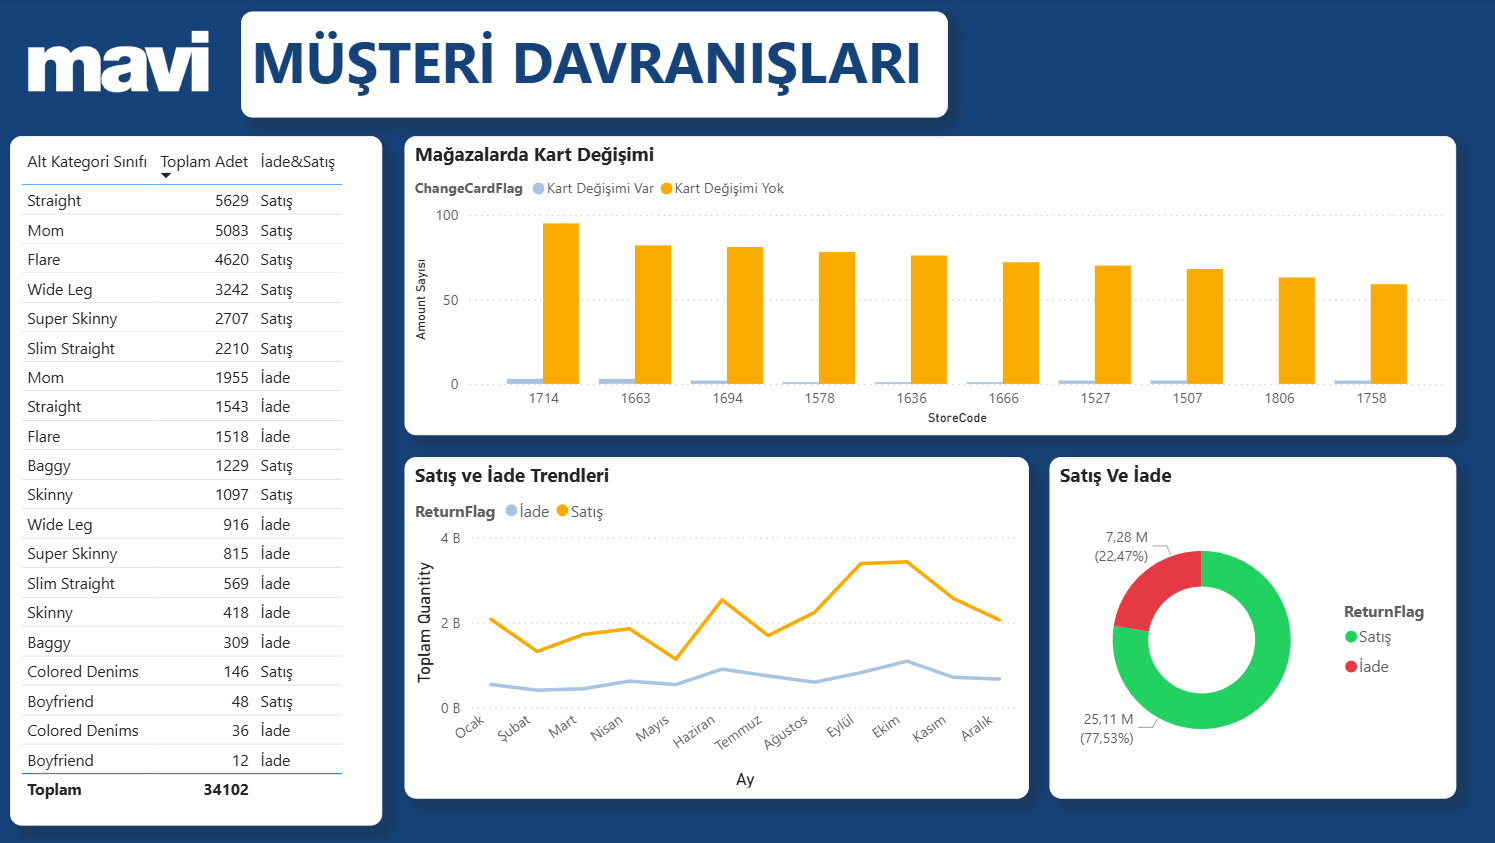

Layout of this report page (visuals, bound fields, positions):
{"tool":"powerbi","page":{"name":"2. sayfa","canvas":[1280,720],"ordinal":1},"visuals":[{"type":"donutChart","title":"Satış Ve İade","fields":{"Y":["Sum(Sales.Amount)"],"Category":["Sales.ReturnFlag"]},"box":[895,390,345,290],"z":0},{"type":"lineChart","title":"Satış ve İade Trendleri","fields":{"Category":["Sales.Date.Varyasyon.Tarih Hiyerarşisi.Ay"],"Y":["Sum(Sales.Quantity)"],"Series":["Sales.ReturnFlag"]},"box":[347.5,390,530,290],"z":1000},{"type":"clusteredColumnChart","title":"Mağazalarda Kart Değişimi","fields":{"Y":["Count(Sales.Amount)"],"Category":["Sales.StoreCode"],"Series":["Sales.ChangeCardFlag"]},"box":[347.5,117.5,892.5,253.8],"z":2000},{"type":"tableEx","fields":{"Values":["Products.SubCategoryClass","Sum(Sales.Quantity)","Sales.ReturnFlag"]},"box":[12.5,117.5,316.2,585],"z":3000},{"type":"textbox","box":[208.8,11.2,600,90],"z":4000},{"type":"image","box":[0,0,208.8,117.5],"z":5000}]}

Visuals, with their boxes in screenshot pixels (x1, y1, x2, y2), scaled from the page's 1280x720 canvas onto the 1495x843 screenshot:
"Satış Ve İade" donutChart: [left=1045, top=457, right=1448, bottom=796]
"Satış ve İade Trendleri" lineChart: [left=406, top=457, right=1025, bottom=796]
"Mağazalarda Kart Değişimi" clusteredColumnChart: [left=406, top=138, right=1448, bottom=435]
tableEx - Products.SubCategoryClass x Sum(Sales.Quantity): [left=15, top=138, right=384, bottom=823]
textbox: [left=244, top=13, right=945, bottom=118]
image: [left=0, top=0, right=244, bottom=138]
